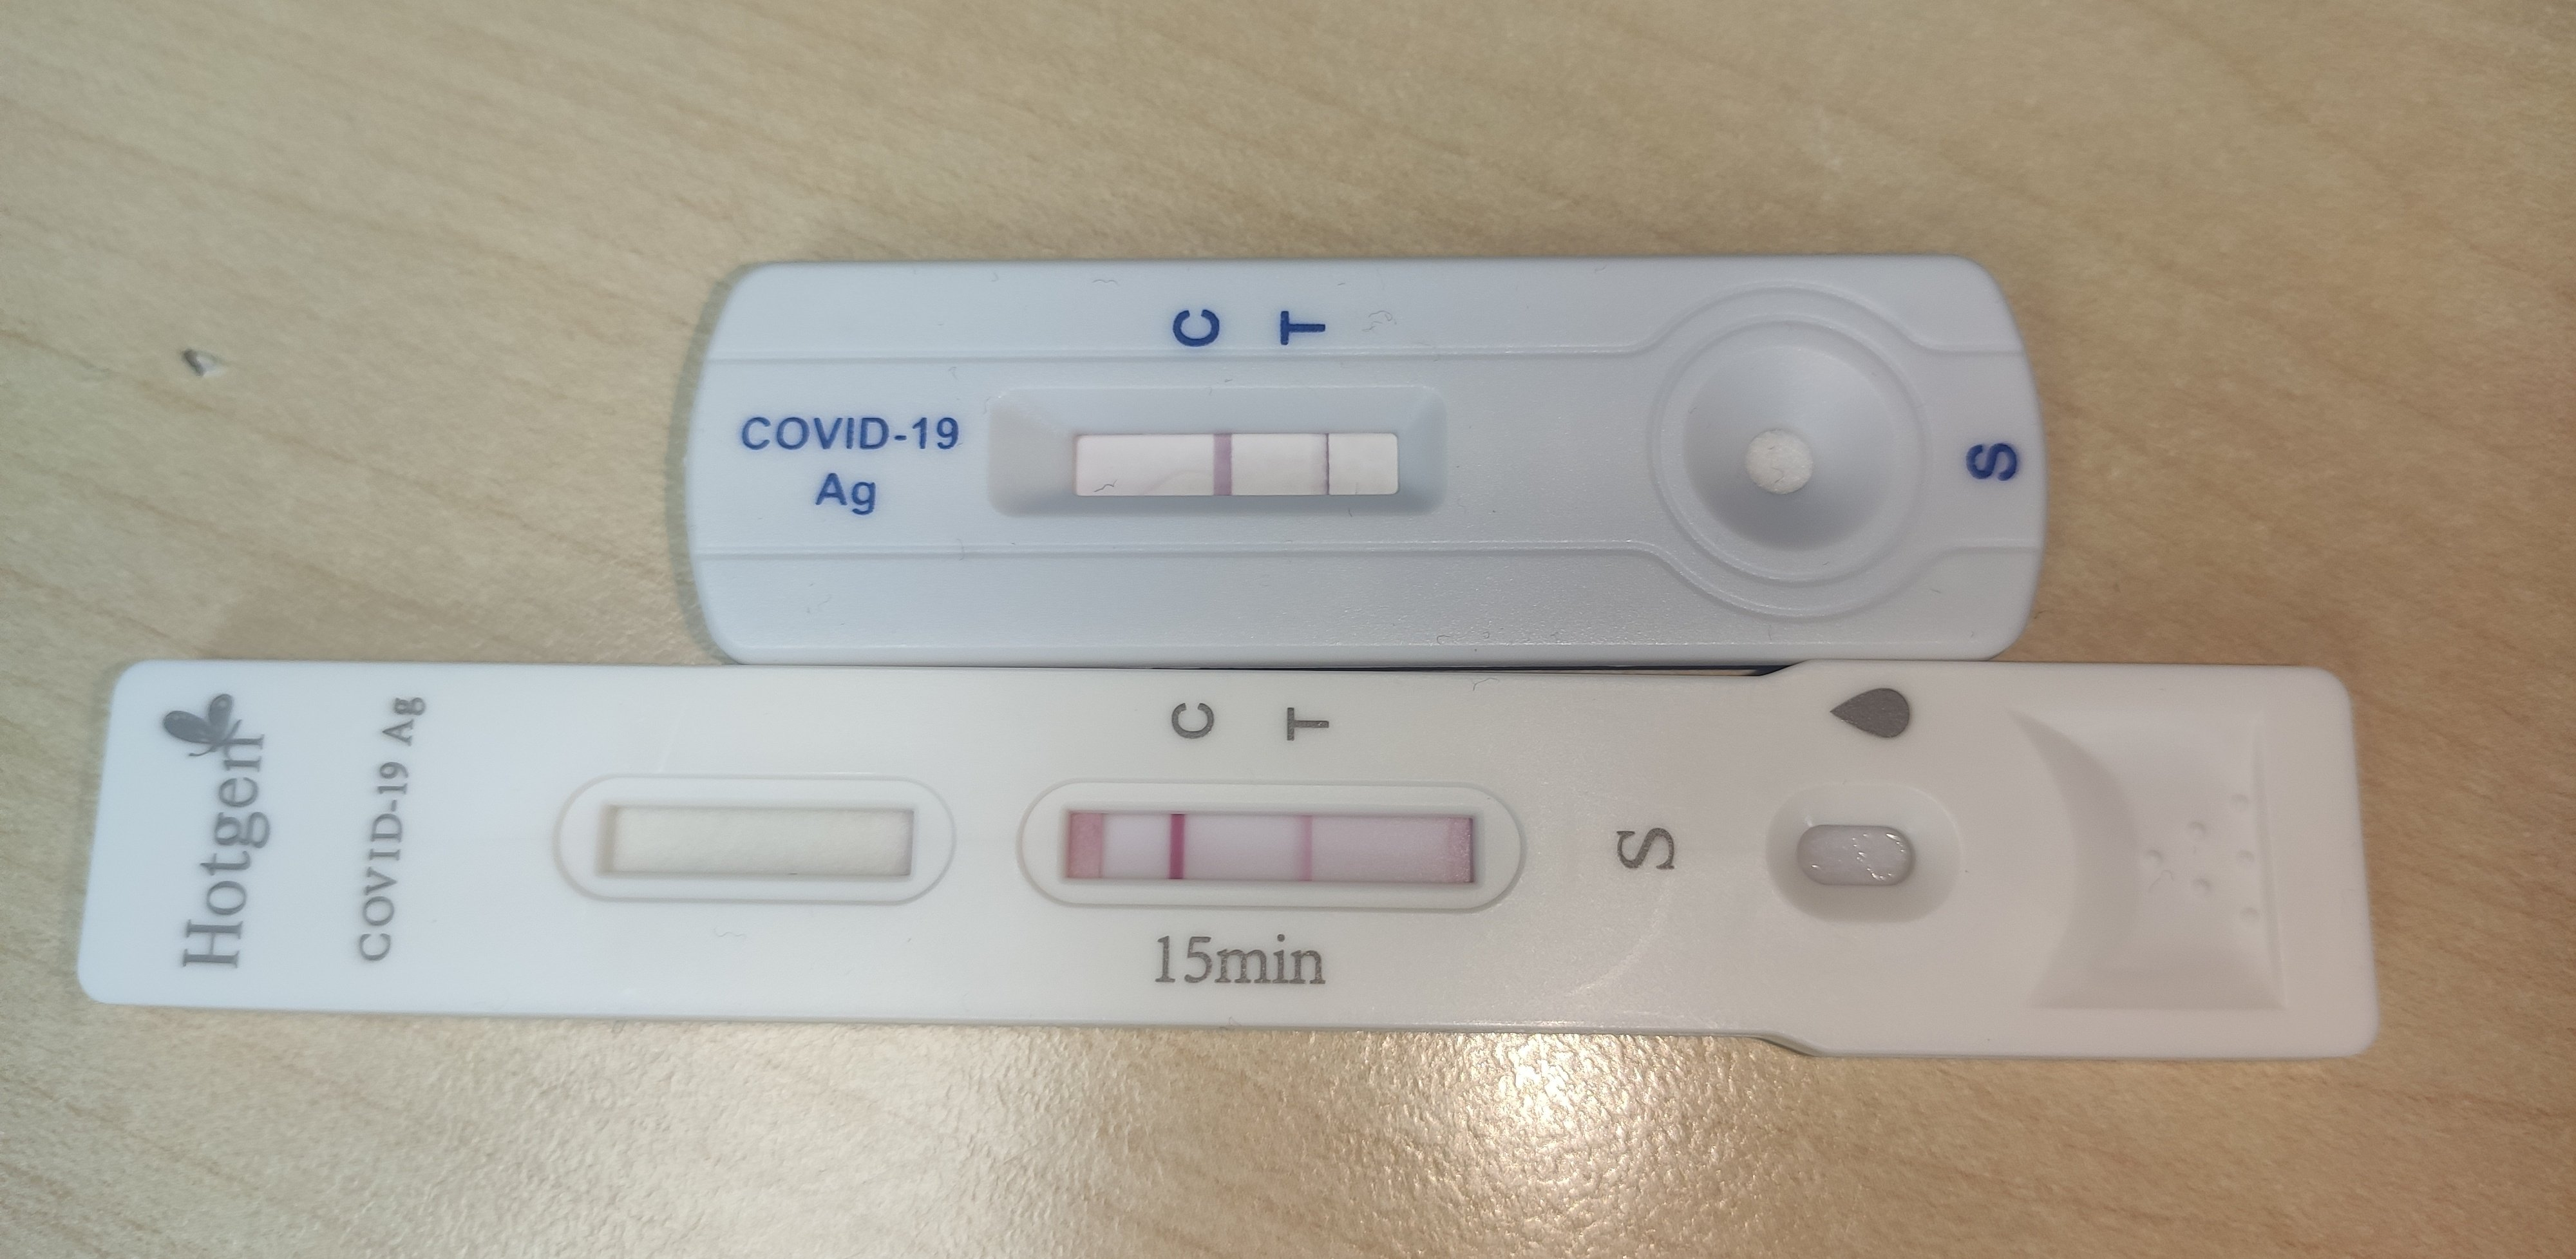positive: (1002, 403, 1419, 519), (1060, 800, 1502, 896)
